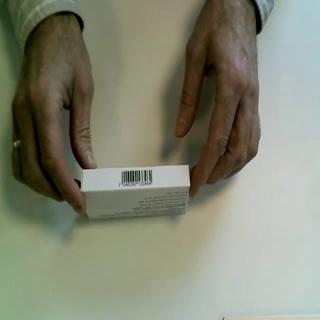oxycontin5mg: (79, 164, 191, 222)
